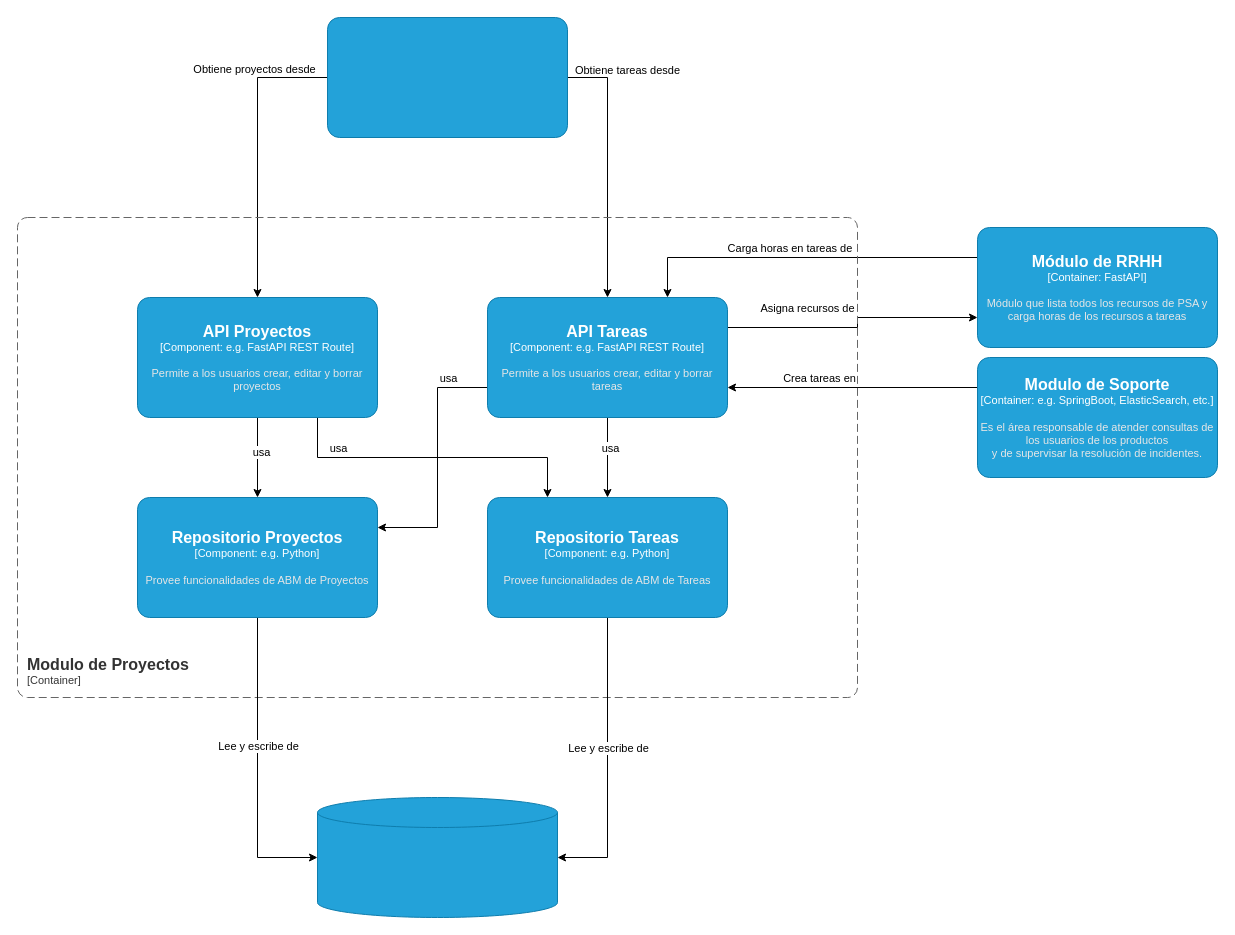
The diagram is 1235 pixels wide and 935 high, and some of its shapes have lost their labels. The shapes that lost their labels are listed below. From the top down, each one's centre as x and y in pixels, then its label:
At (447,77): "Aplicación web [Web: React y Typescript]".
At (437,857): "Database [Container: eg. Postgress]".
